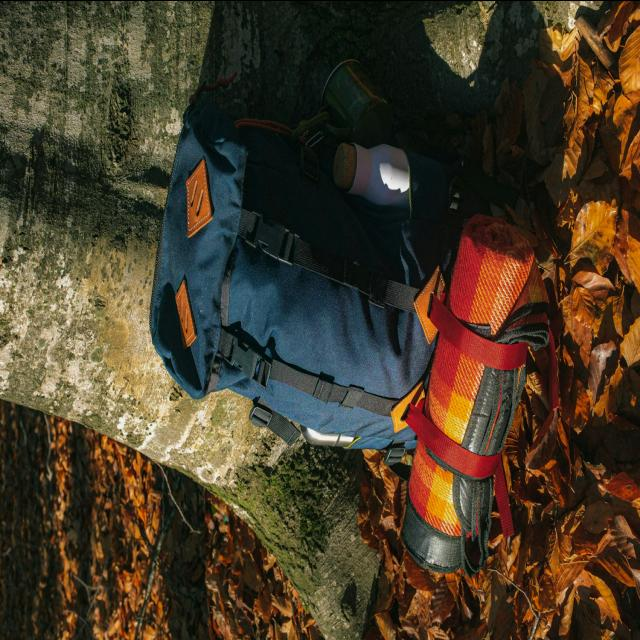backpack: (150, 61, 492, 457)
